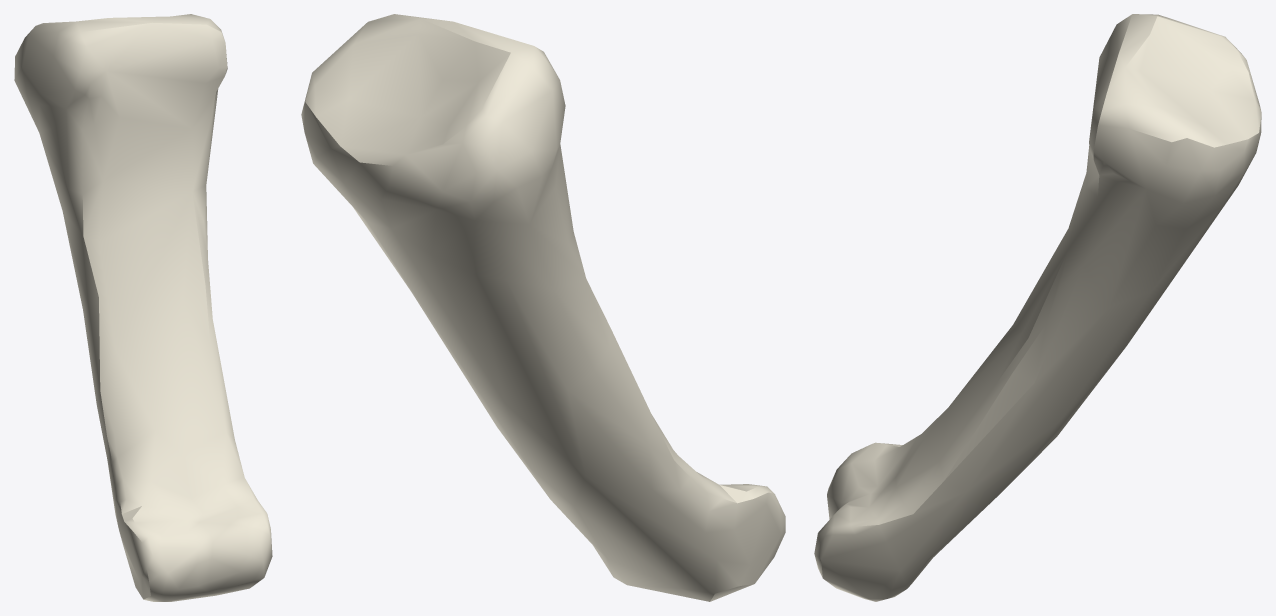
The model's file is fma24452_fj3325.glb.
3 renders of one model, left to right at view 1: azimuth 30°, elevation 25°; view 2: azimuth 150°, elevation 25°; view 3: azimuth 270°, elevation 25°, orthographic. The views are drawn at different scales.
Visible parts, largest first — view 1: FMA24452_FJ3325; view 2: FMA24452_FJ3325; view 3: FMA24452_FJ3325.
Part boxes in pixels (x1=…): FMA24452_FJ3325: x1=14, y1=14, x2=272, y2=601; FMA24452_FJ3325: x1=301, y1=14, x2=785, y2=601; FMA24452_FJ3325: x1=814, y1=14, x2=1261, y2=601.
Bounding box in the file's own units: 0.0182 × 0.0406 × 0.0291.
